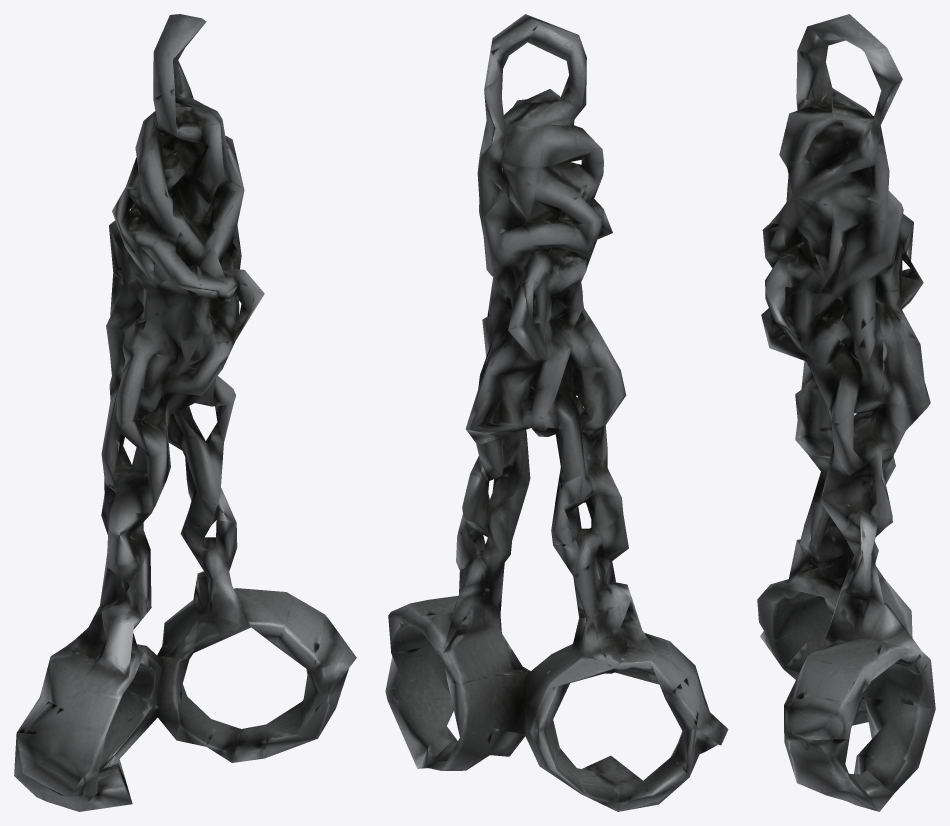
File: ritual_chains_dangling.glb
3 renders of one model, left to right at view 1: azimuth 30°, elevation 25°; view 2: azimuth 150°, elevation 25°; view 3: azimuth 270°, elevation 25°, orthographic. The views are drawn at different scales.
Size of the model in its own units: 0.8886 by 1.99 by 0.43.
Materials: 1 (1 with a texture image).
